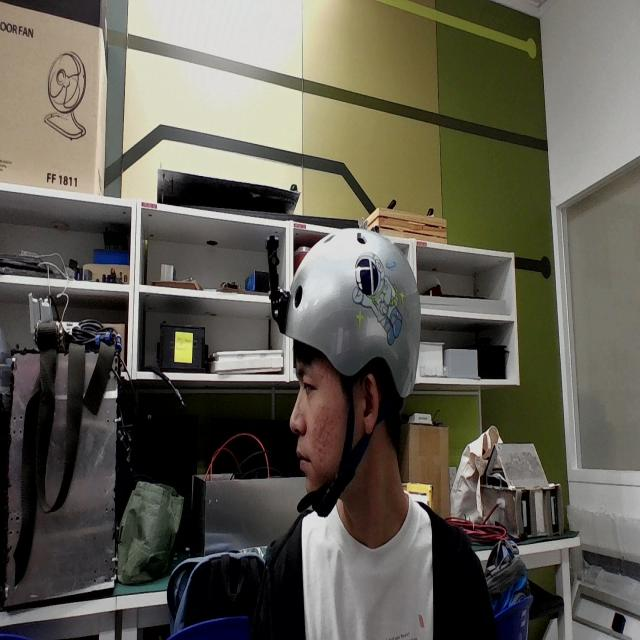With Helmet: (238, 154, 470, 604)
